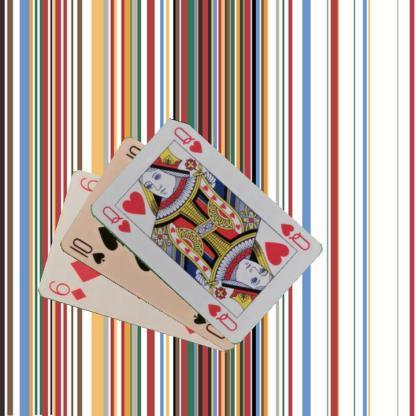10s: (66, 235, 106, 266)
6d: (45, 278, 87, 302)
Qh: (276, 220, 312, 252), (99, 202, 132, 234)
